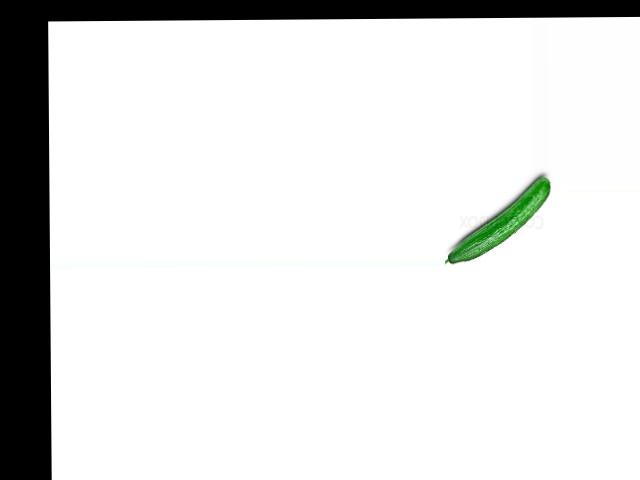cucumber: (442, 176, 550, 263)
